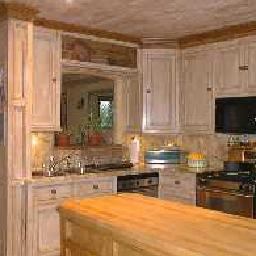Electrodomestico: (197, 176, 255, 217), (116, 172, 158, 195)
